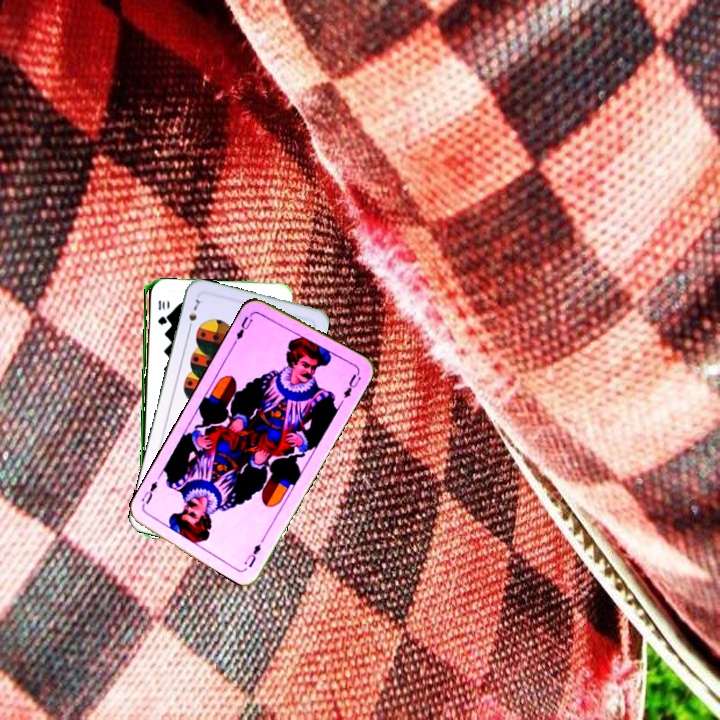EU: (232, 309, 256, 342), (240, 540, 264, 570)
G10: (154, 296, 167, 327)
S7: (184, 295, 202, 333)
